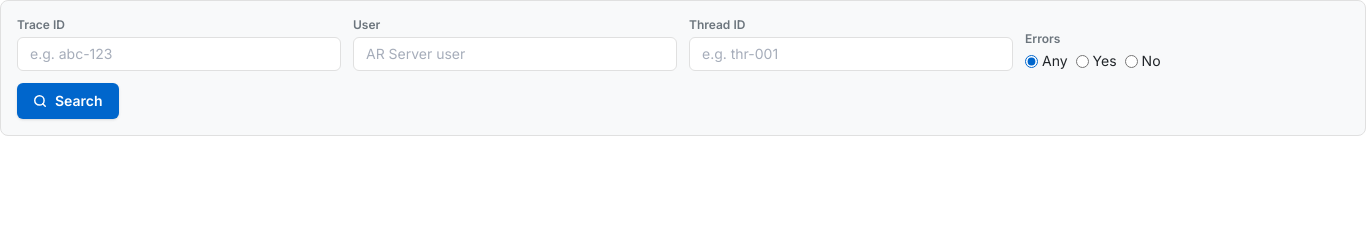
Test: TraceSearch › shows singular "result" for exactly 1 result
This screenshot has width=1366, height=241.
Click the button "Search". click: (68,101)
box: [17, 83, 118, 119]
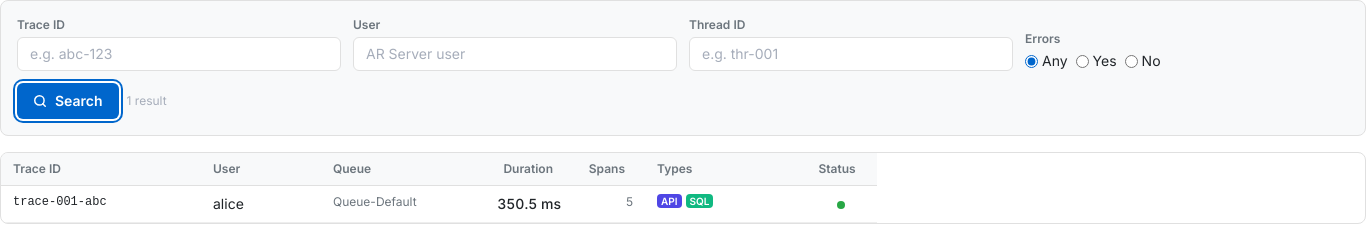
expect the text "1 result" is shown: met, box [126, 93, 166, 109]
